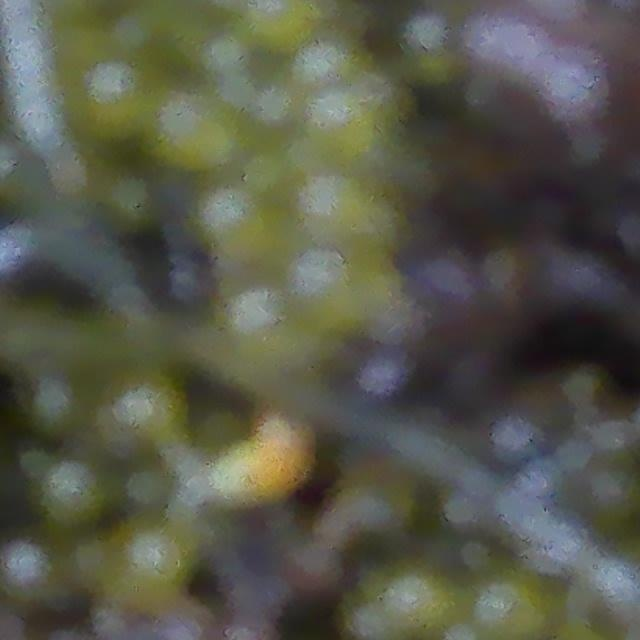SeaGrape: (170, 103, 244, 185), (37, 456, 112, 532), (302, 159, 379, 229), (88, 55, 149, 142), (302, 251, 372, 318), (228, 287, 291, 360), (209, 204, 281, 266), (305, 88, 372, 136)
